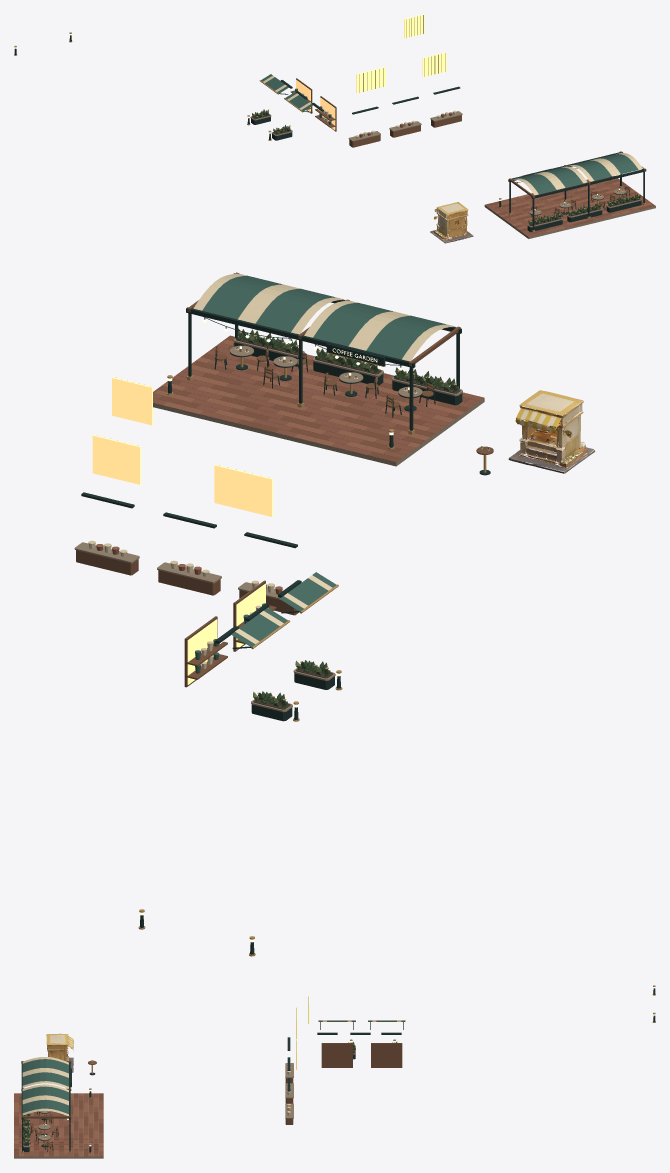
The model's file is coffee-promenade.glb.
3 renders of one model, top to bottom at view 1: azimuth 30°, elevation 25°; view 2: azimuth 150°, elevation 25°; view 3: azimuth 270°, elevation 25°, orthographic. The views are drawn at different scales.
Parts seen in each view (by area): view 1: Coffee garden terrace, Market windows and plaza lanterns, Coffee kiosk distance mesh; view 2: Coffee garden terrace, Market windows and plaza lanterns, Coffee kiosk distance mesh; view 3: Coffee garden terrace, Market windows and plaza lanterns, Coffee kiosk distance mesh.
Part boxes in pixels (x1=…): Coffee garden terrace: x1=484, y1=151, x2=655, y2=238; Market windows and plaza lanterns: x1=14, y1=14, x2=462, y2=147; Coffee kiosk distance mesh: x1=430, y1=202, x2=473, y2=243; Coffee garden terrace: x1=153, y1=272, x2=493, y2=475; Market windows and plaza lanterns: x1=74, y1=377, x2=342, y2=956; Coffee kiosk distance mesh: x1=508, y1=390, x2=595, y2=473; Coffee garden terrace: x1=14, y1=1057, x2=103, y2=1158; Market windows and plaza lanterns: x1=285, y1=985, x2=655, y2=1124; Coffee kiosk distance mesh: x1=46, y1=1033, x2=73, y2=1072.
Bounding box in the file's own units: 31.46 × 9.97 × 52.53.
Materials: 7 (1 with a texture image).
